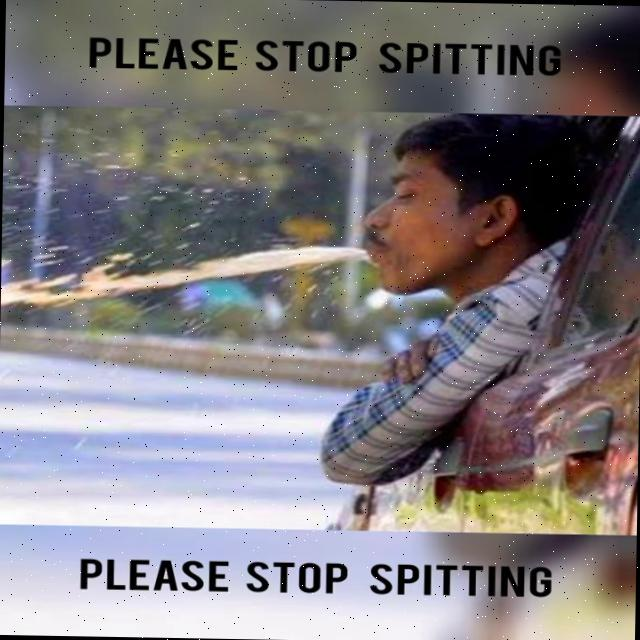spit: (0, 169, 419, 375)
